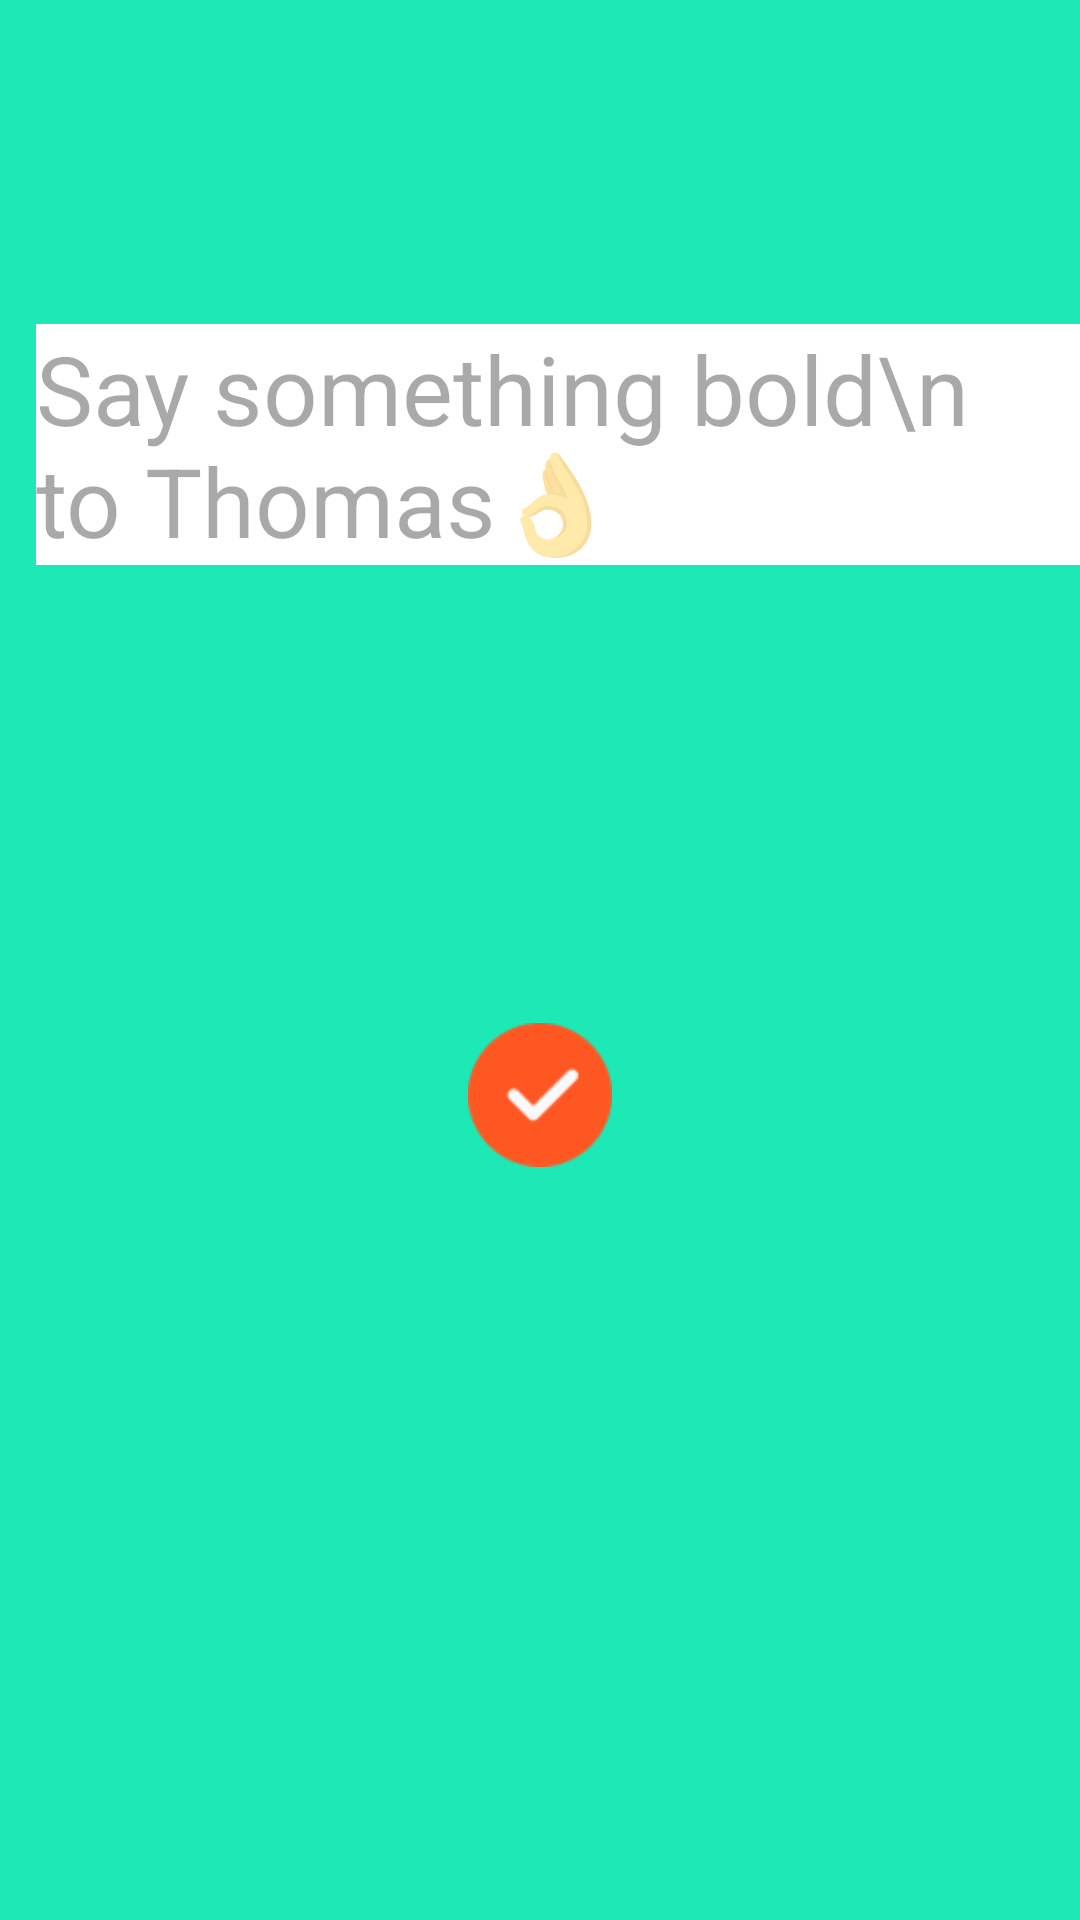

Named icons in this screenshot (1080*1920) and their centers, (x=x, y=y):
check: (x=540, y=1095)
